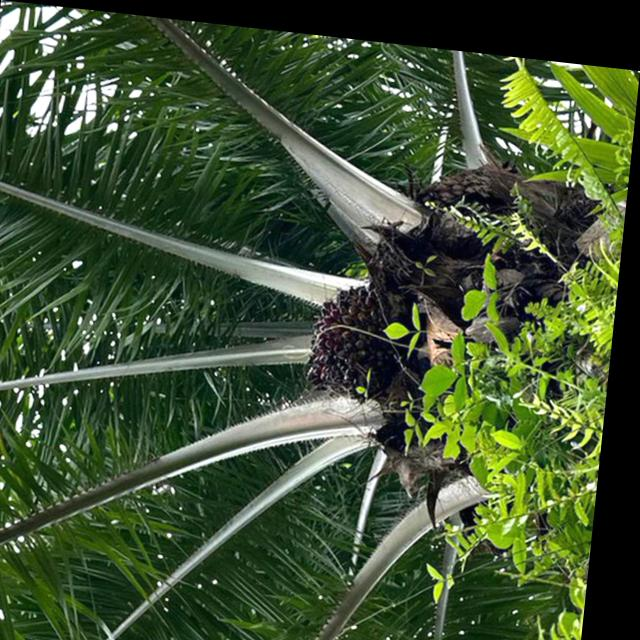ripe: (305, 274, 398, 393)
